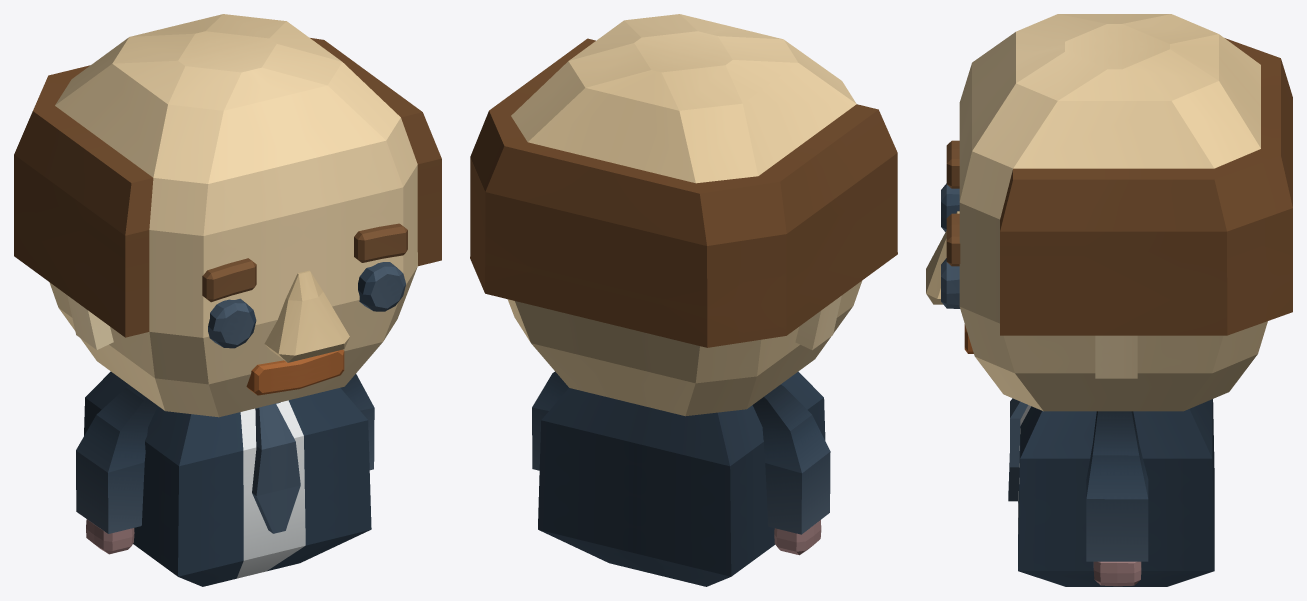
Rendered from tutorial-guy-1.glb.
3 views of the same model, side by side, from view 1: azimuth 30°, elevation 25°; view 2: azimuth 150°, elevation 25°; view 3: azimuth 270°, elevation 25° (orthographic). The views are drawn at different scales.
Visible parts, largest first — view 1: Cube; view 2: Cube; view 3: Cube.
Part boxes in pixels (x1=…): Cube: x1=14, y1=14, x2=441, y2=586; Cube: x1=470, y1=14, x2=897, y2=586; Cube: x1=926, y1=14, x2=1292, y2=586.
Size of the model in its own units: 1.18 by 1.8 by 1.16.
1 material, 1 textured.
